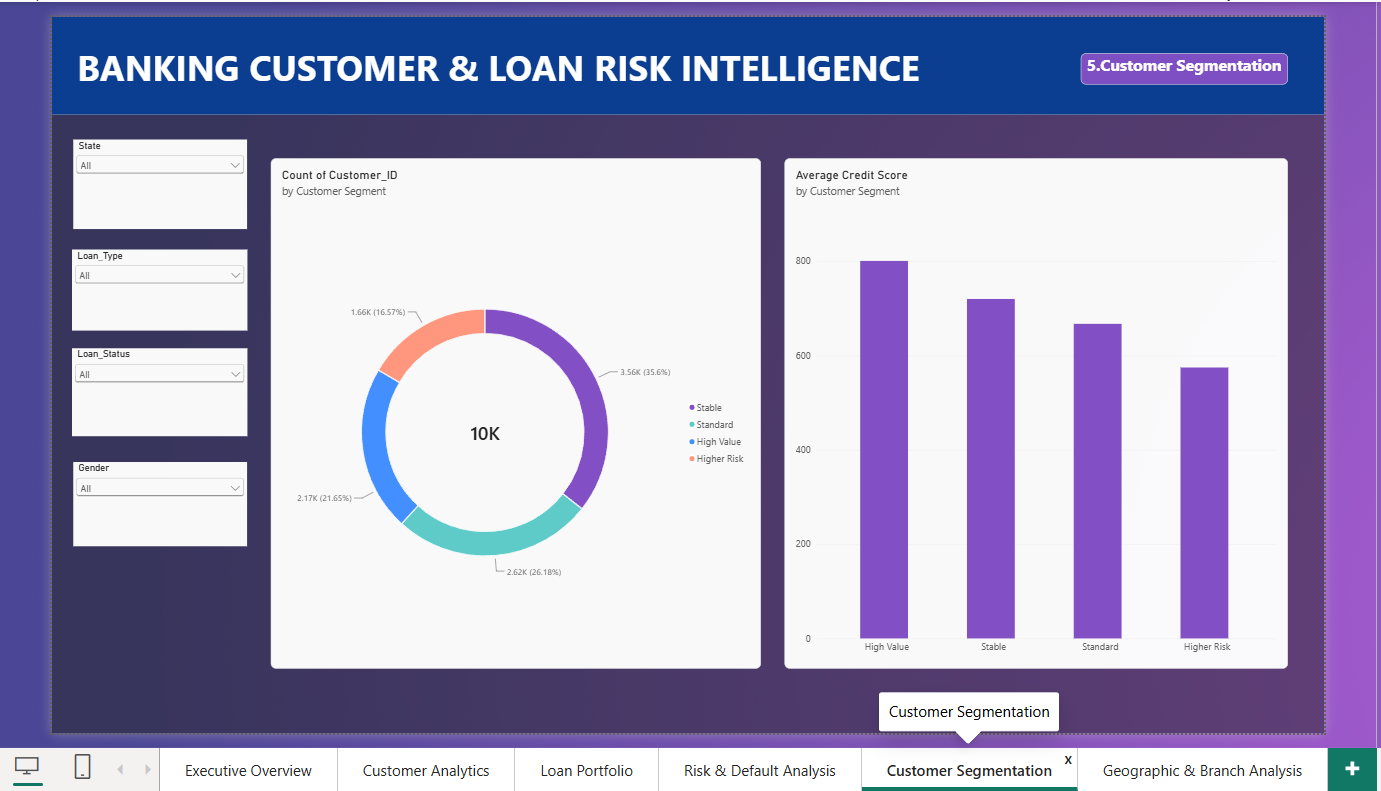

This screenshot's page, from the dashboard's own definition file:
{"tool":"powerbi","page":{"name":"Customer Segmentation","canvas":[1920,1080],"ordinal":4},"visuals":[{"type":"donutChart","fields":{"Category":["customers.Customer Segment"],"Y":["CountNonNull(customers.Customer_ID)"]},"box":[330,212.5,740,770],"z":0},{"type":"columnChart","fields":{"Category":["customers.Customer Segment"],"Y":["customers.Average Credit Score"]},"box":[1105,212.5,760,770],"z":1000},{"type":"slicer","fields":{"Values":["customers.State"]},"box":[32.5,185,262.5,135],"z":2000},{"type":"slicer","fields":{"Values":["loans.Loan_Type"]},"box":[30,350,265,122.5],"z":3000},{"type":"slicer","fields":{"Values":["loans.Loan_Status"]},"box":[30,500,265,132.5],"z":4000},{"type":"slicer","fields":{"Values":["customers.Gender"]},"box":[32.5,672.5,262.5,127.5],"z":5000},{"type":"shape","box":[0,0,1920,147.5],"z":6000},{"type":"textbox","box":[1552.5,55,312.5,47.5],"z":6001}]}

Visuals, with their boxes on the page's 1920x1080 design canvas (x1, y1, x2, y2). These are canvas units, not pixel positions in the 1381x791 screenshot, which may show the page scaled, cropped or inside an application window:
donutChart - customers.Customer Segment x CountNonNull(customers.Customer_ID): (330,212,1070,982)
columnChart - customers.Customer Segment x customers.Average Credit Score: (1105,212,1865,982)
slicer - customers.State: (32,185,295,320)
slicer - loans.Loan_Type: (30,350,295,472)
slicer - loans.Loan_Status: (30,500,295,632)
slicer - customers.Gender: (32,672,295,800)
shape: (0,0,1920,148)
textbox: (1552,55,1865,102)
